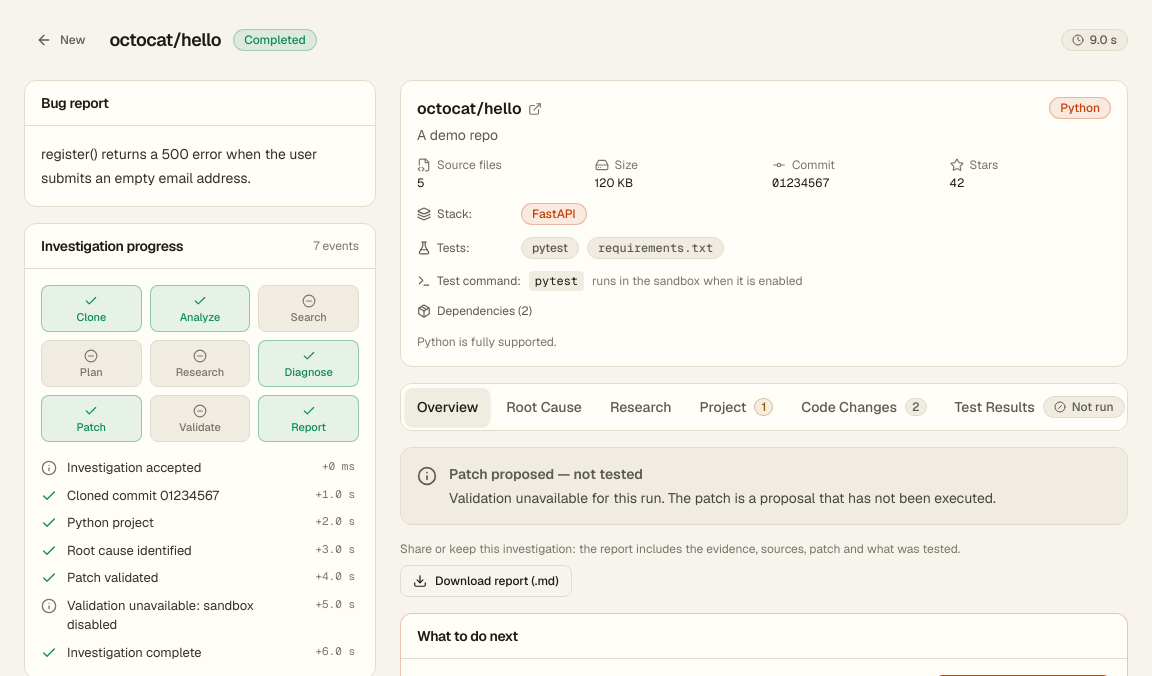
Test: Accept and reject changes › accept all and reject all apply to every file, and decisions survive switching tabs
Click the tab "Code Changes 2" at (864, 407), box 789,388 -> 938,426
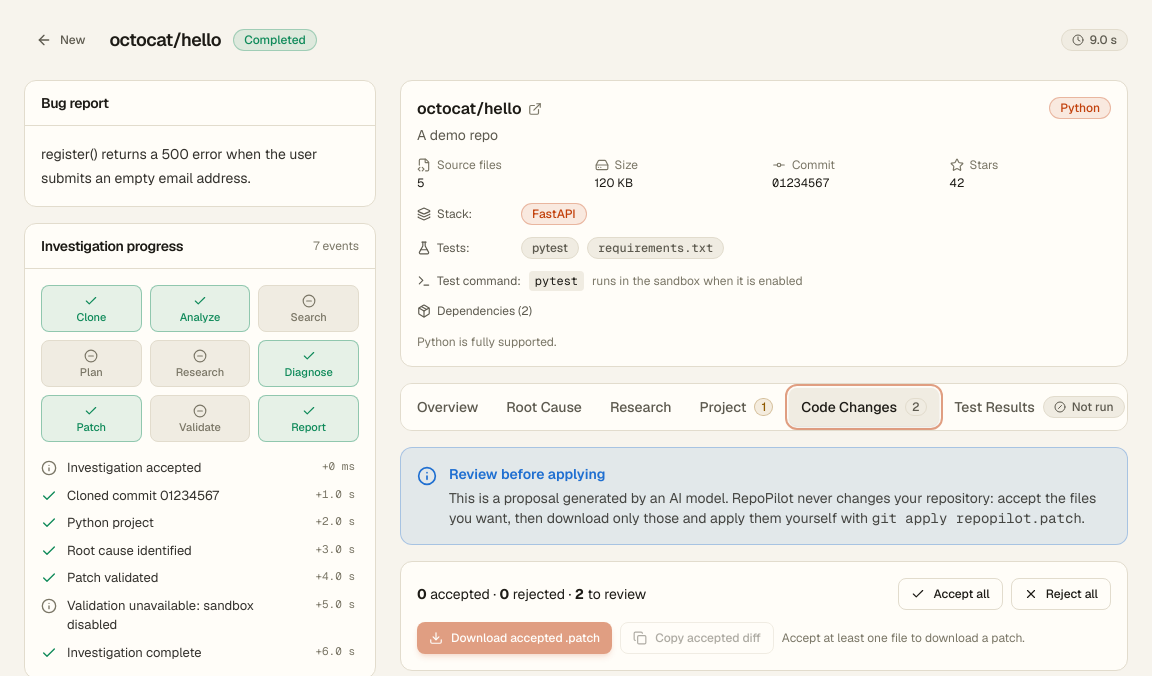
Click the button "Accept all" at (951, 594), box 898,578 -> 1003,610
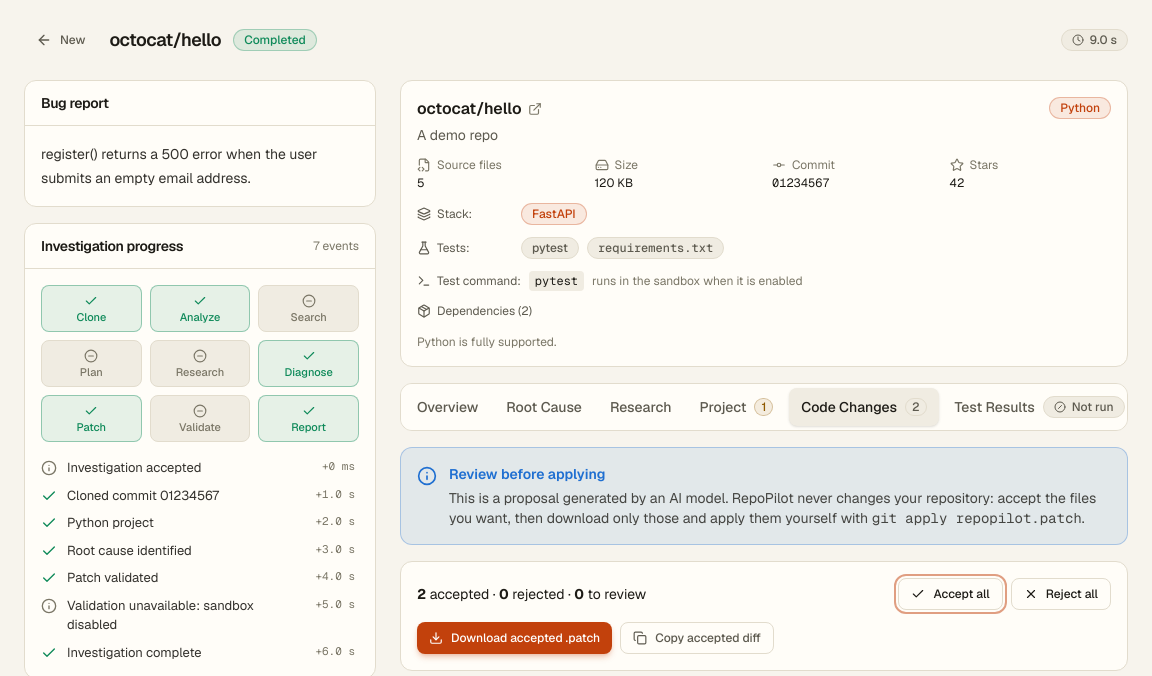
Expected: the text "2 accepted · 0 rejected · 0 to review" is shown, 417,584 -> 646,604
Click the button "Reject all" at (1061, 594), box 1011,578 -> 1111,610
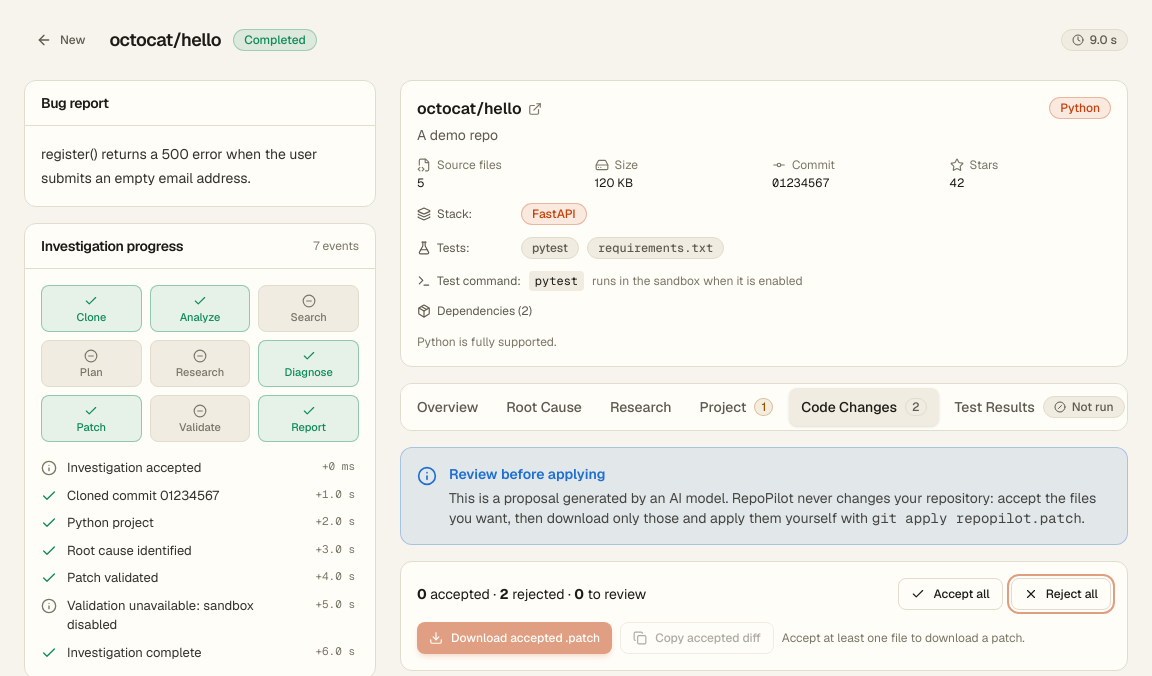
Expected: the text "0 accepted · 2 rejected · 0 to review" is shown, 417,584 -> 646,604
Click the tab "Overview" at (448, 407), box 405,388 -> 490,426
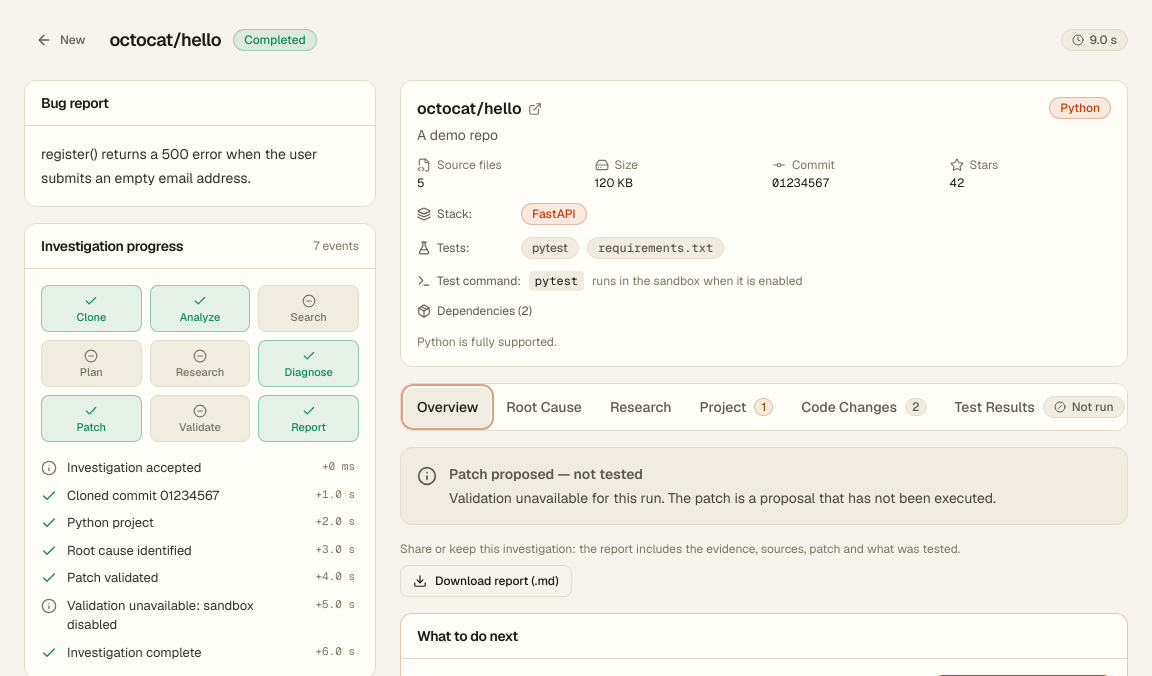
Click the tab "Code Changes 2" at (864, 407), box 789,388 -> 938,426
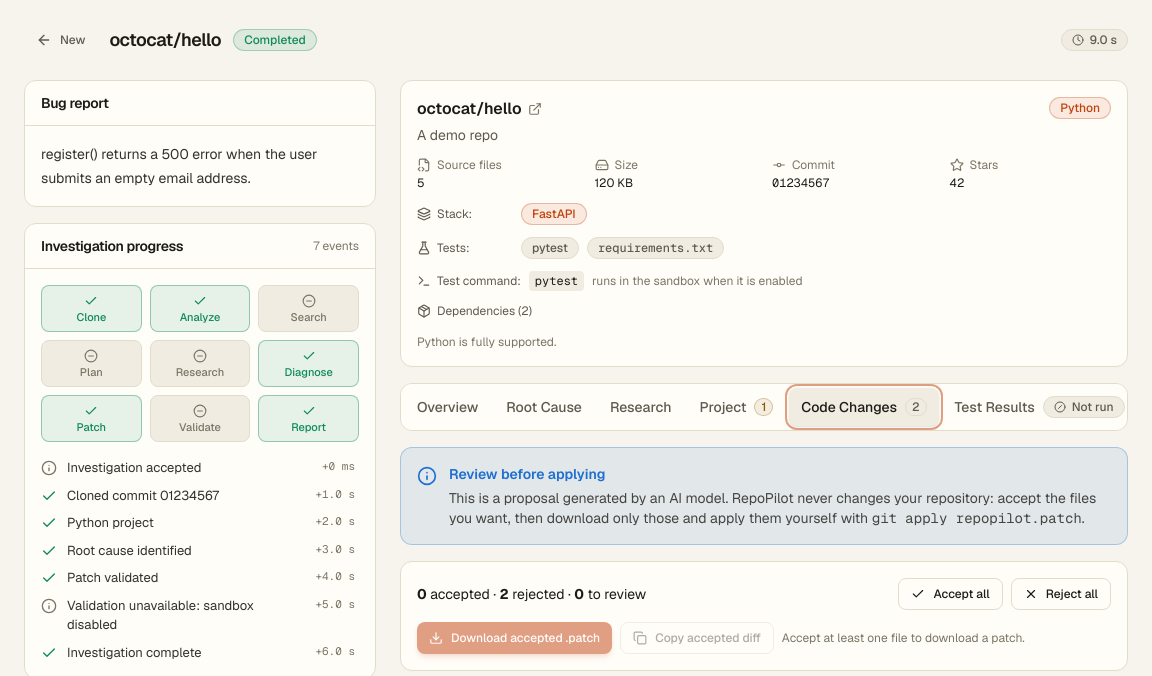
Expected: the text "0 accepted · 2 rejected · 0 to review" is shown, 417,584 -> 646,604
